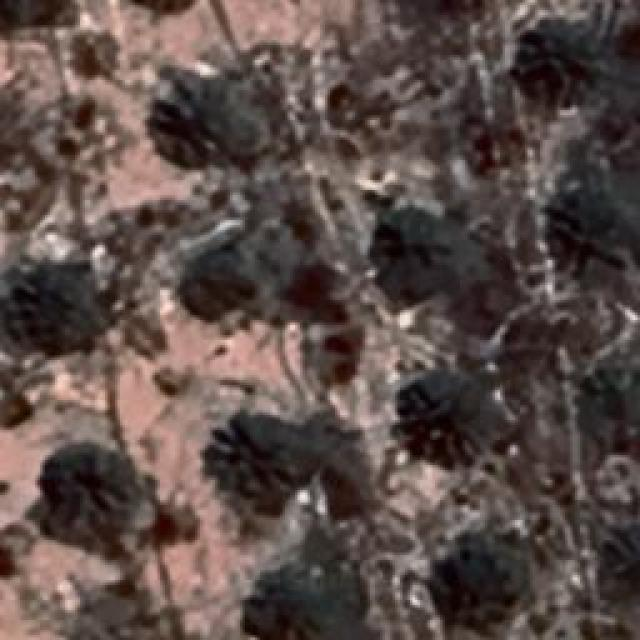PalmTree: (88, 65, 612, 406), (56, 78, 285, 608), (13, 268, 122, 370), (48, 446, 150, 542), (381, 195, 479, 285), (164, 76, 256, 162), (438, 532, 526, 620), (182, 238, 280, 310), (414, 368, 496, 446), (222, 418, 306, 494), (532, 23, 616, 88), (556, 185, 632, 253), (607, 518, 640, 598), (0, 0, 60, 30), (118, 1, 208, 20)
